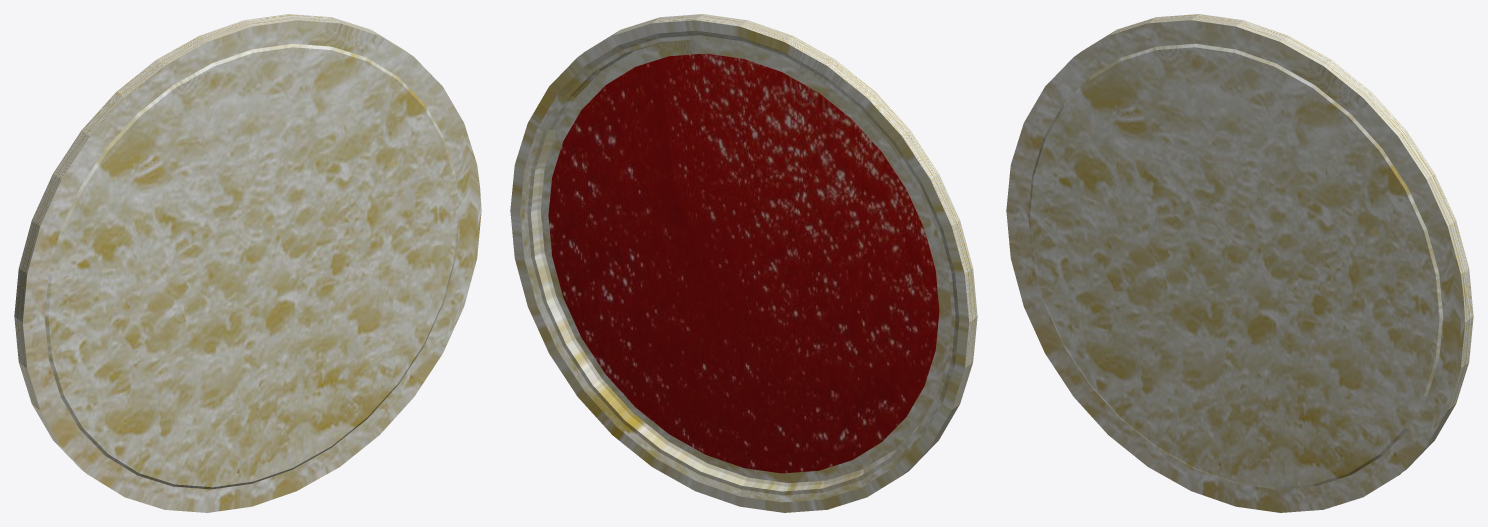
File: pizza.fbx
3 renders of one model, left to right at view 1: azimuth 30°, elevation 25°; view 2: azimuth 150°, elevation 25°; view 3: azimuth 330°, elevation 25°, orthographic.
Parts seen in each view (by area): view 1: Cylinder; view 2: Cylinder; view 3: Cylinder.
Boxes of the visible parts, <box> form: Cylinder: <box>14,14,481,512</box>; Cylinder: <box>510,14,977,512</box>; Cylinder: <box>1006,14,1473,512</box>.
Bounding box in the file's own units: 3526 × 3526 × 126.
